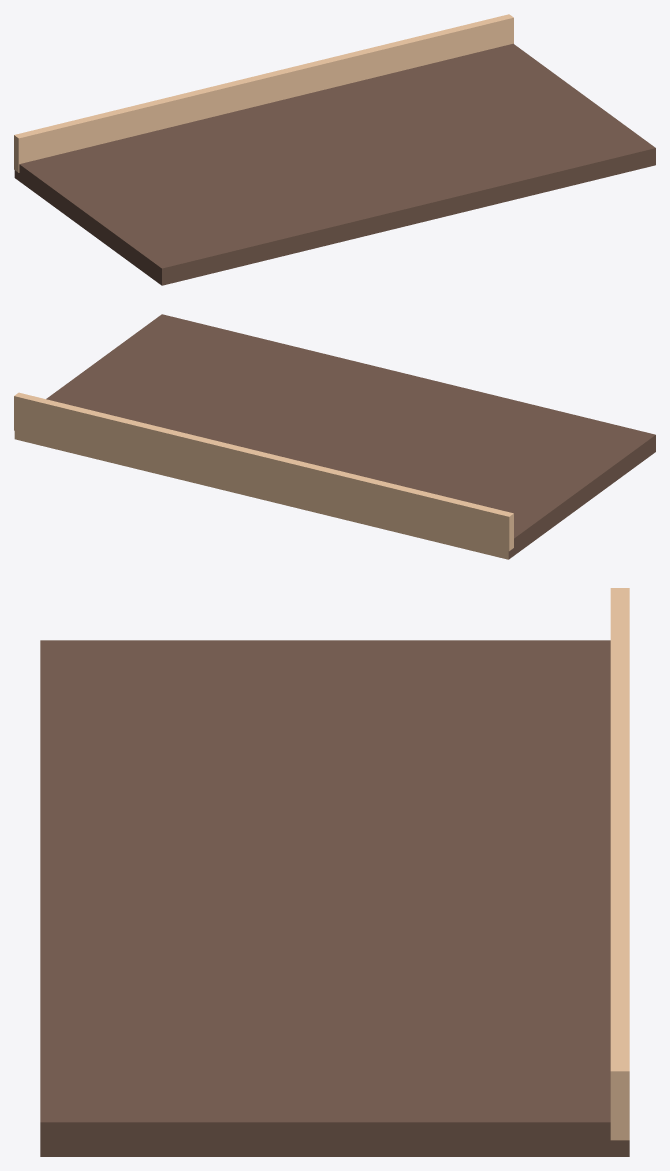
The model's file is Kitchen_Countertop.fbx.
3 views of the same model, one above another, from view 1: azimuth 30°, elevation 25°; view 2: azimuth 150°, elevation 25°; view 3: azimuth 270°, elevation 25° (orthographic). The views are drawn at different scales.
Parts seen in each view (by area): view 1: Kitchen_Countertop; view 2: Kitchen_Countertop; view 3: Kitchen_Countertop.
Boxes of the visible parts, x1,y1,x2,y2 form: Kitchen_Countertop: (14,14,655,285); Kitchen_Countertop: (14,314,655,559); Kitchen_Countertop: (40,588,629,1156).
Bounding box in the file's own units: 1.2 × 0.1 × 0.62.
Materials: 1 (1 with a texture image).
